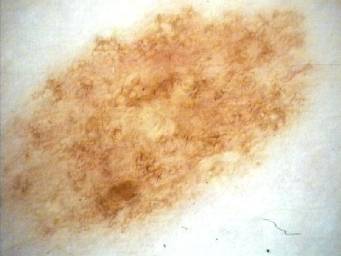nevus: (1, 3, 321, 242)
